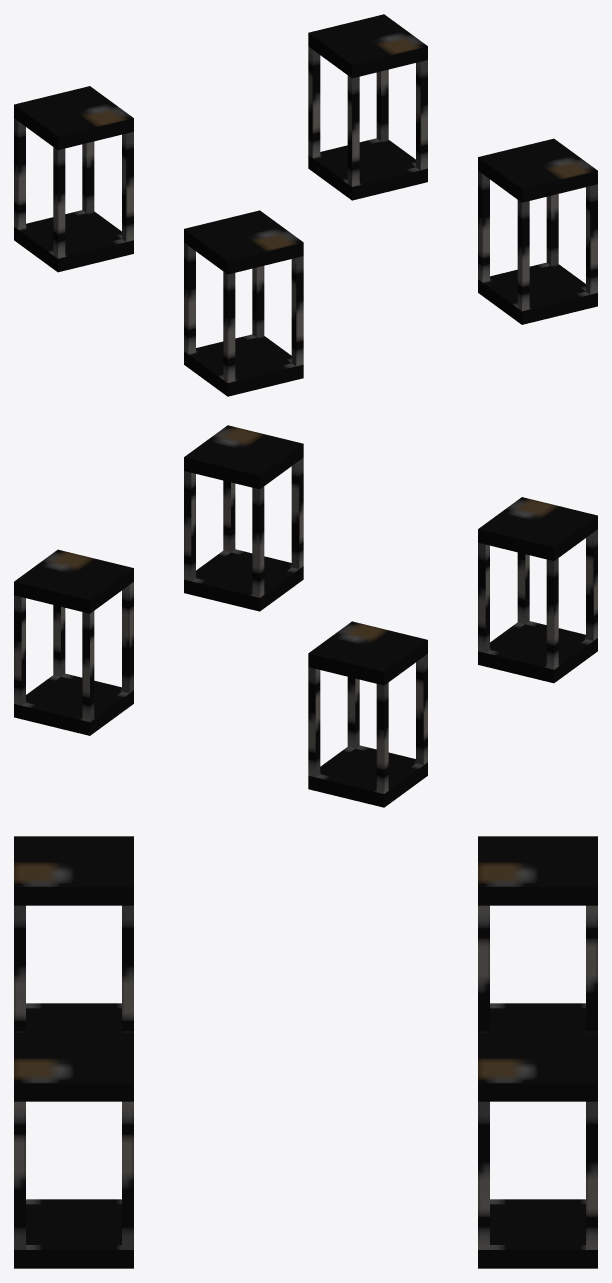
File: pistontanks.obj
The picture shows the model from 3 angles, top to bottom: view 1: azimuth 30°, elevation 25°; view 2: azimuth 150°, elevation 25°; view 3: azimuth 270°, elevation 25°; orthographic projection. The views are drawn at different scales.
Parts seen in each view (by area): view 1: pistontanks; view 2: pistontanks; view 3: pistontanks.
Part boxes in pixels (x1,y1,x2,y2): pistontanks: [14, 14, 597, 396]; pistontanks: [14, 425, 597, 807]; pistontanks: [14, 836, 597, 1268].
Bounding box in the file's own units: 2.83 × 0.9918 × 2.83.
